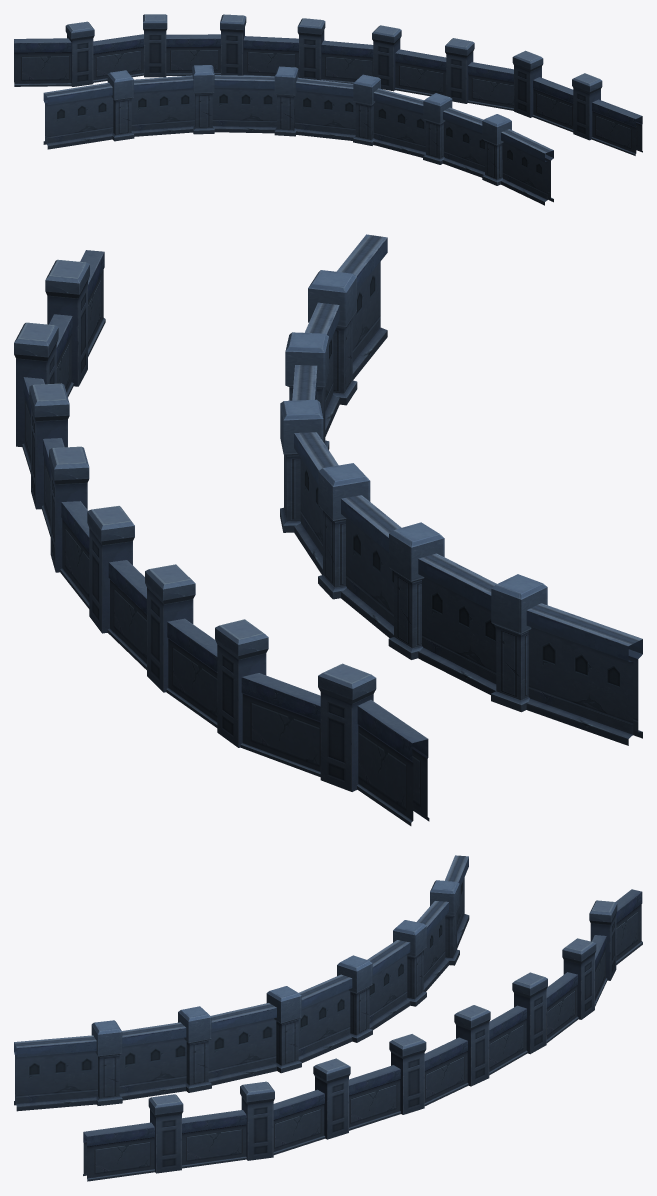
Rendered from chengqiang_group31.fbx.
3 renders of one model, top to bottom at view 1: azimuth 30°, elevation 25°; view 2: azimuth 150°, elevation 25°; view 3: azimuth 270°, elevation 25°, orthographic. The views are drawn at different scales.
Parts seen in each view (by area): view 1: chengqiang_group31; view 2: chengqiang_group31; view 3: chengqiang_group31.
Boxes of the visible parts, x1,y1,x2,y2 form: chengqiang_group31: (14, 14, 642, 205); chengqiang_group31: (14, 234, 642, 825); chengqiang_group31: (14, 855, 642, 1181).
Bounding box in the file's own units: 5302 × 700 × 5367.
1 material, 1 textured.
